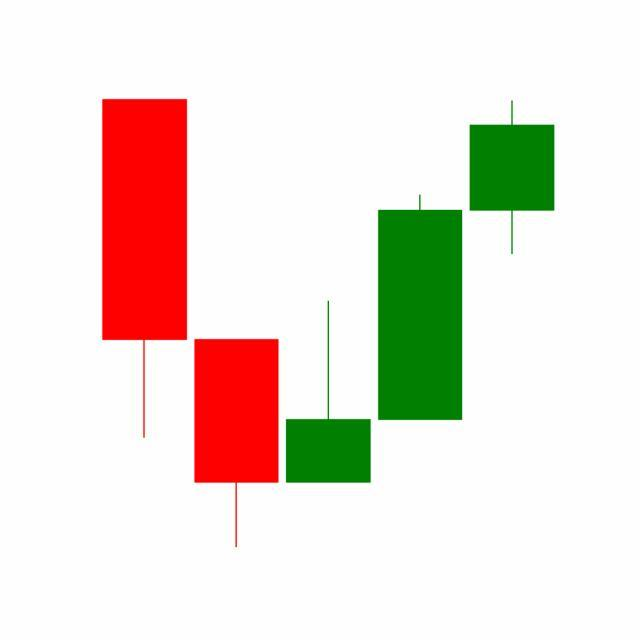Marubozu: (374, 192, 468, 423)
